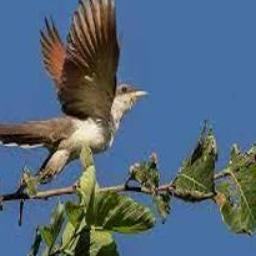Cuckoo: (0, 0, 150, 180)
